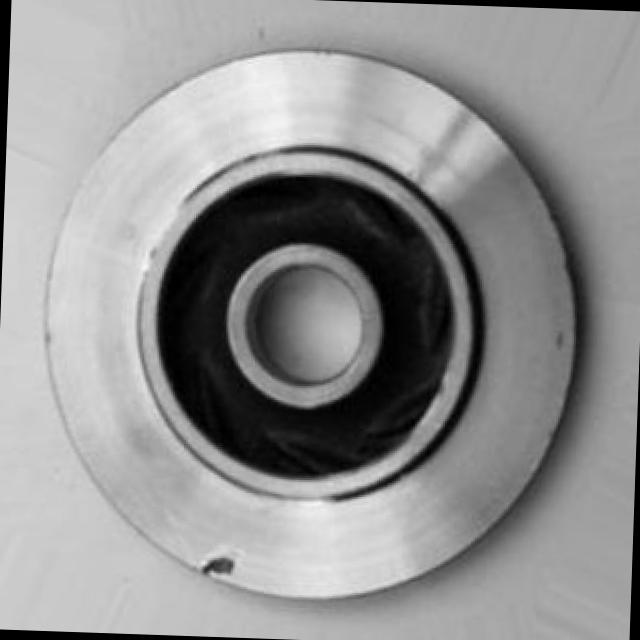Defect: (198, 538, 245, 596)
